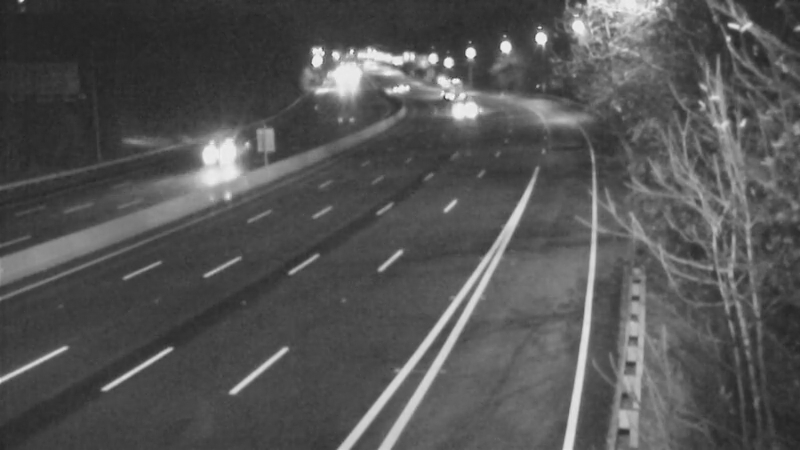vehicle: (184, 115, 264, 195), (379, 60, 429, 110), (365, 63, 415, 113), (426, 65, 476, 115), (430, 89, 480, 139)
